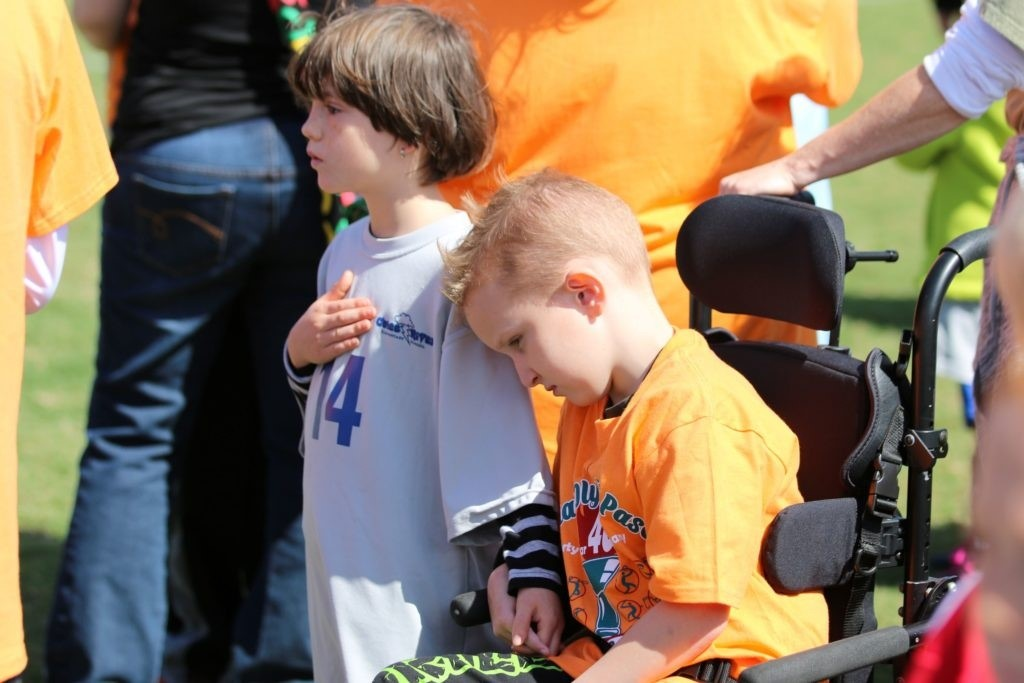face_no_mask: (449, 173, 656, 402), (296, 8, 475, 197)
